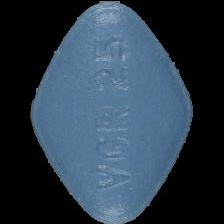43063-256: (0, 0, 224, 224)
